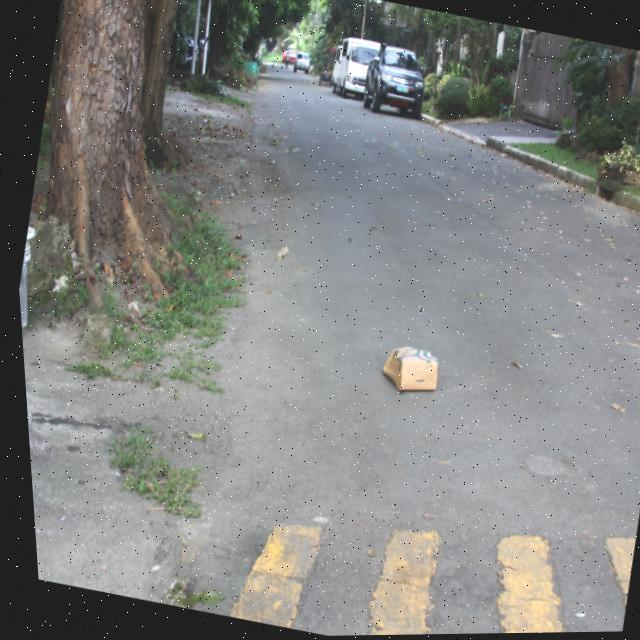Paper_Bag: (371, 342, 438, 398)
